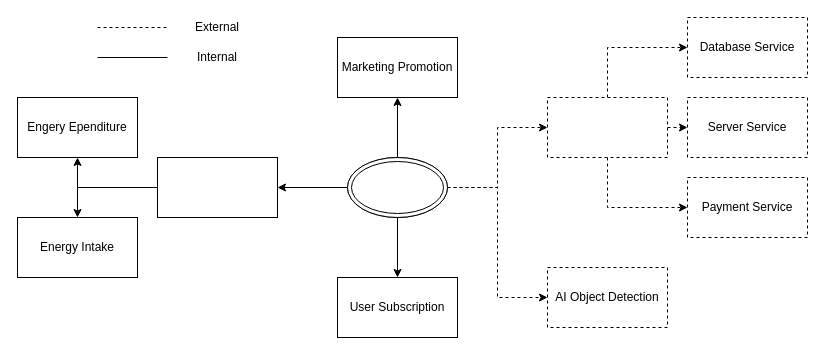
The diagram is 825 pixels wide and 355 high, and some of its shapes have lost their labels. Here are the shapes that lost their labels. From the top down, the centre of each, then its label:
point 607,127: Cloud Service
point 217,187: Health Monitor
point 397,187: Food Magic
